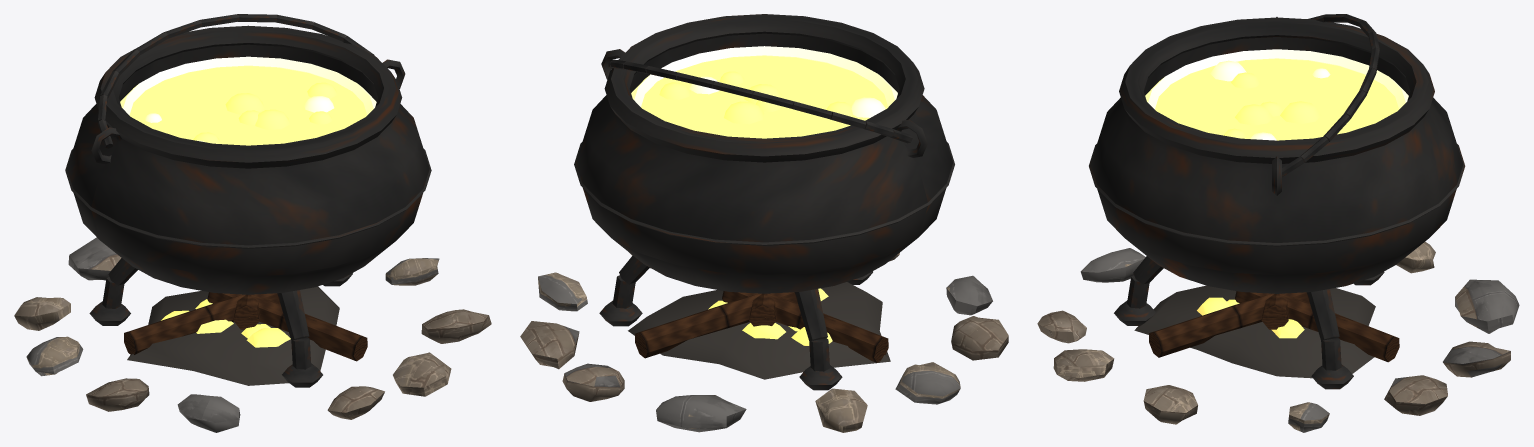
The model's file is cauldron_amber.glb.
3 renders of one model, left to right at view 1: azimuth 30°, elevation 25°; view 2: azimuth 150°, elevation 25°; view 3: azimuth 270°, elevation 25°, orthographic. The views are drawn at different scales.
Visible parts, largest first — view 1: cauldron_amber; view 2: cauldron_amber; view 3: cauldron_amber.
Boxes of the visible parts, x1=… form: cauldron_amber: x1=14, y1=14, x2=491, y2=432; cauldron_amber: x1=520, y1=14, x2=1008, y2=432; cauldron_amber: x1=1037, y1=14, x2=1519, y2=432.
Bounding box in the file's own units: 1.76 × 1.19 × 1.75.
Materials: 7 (3 with a texture image).
